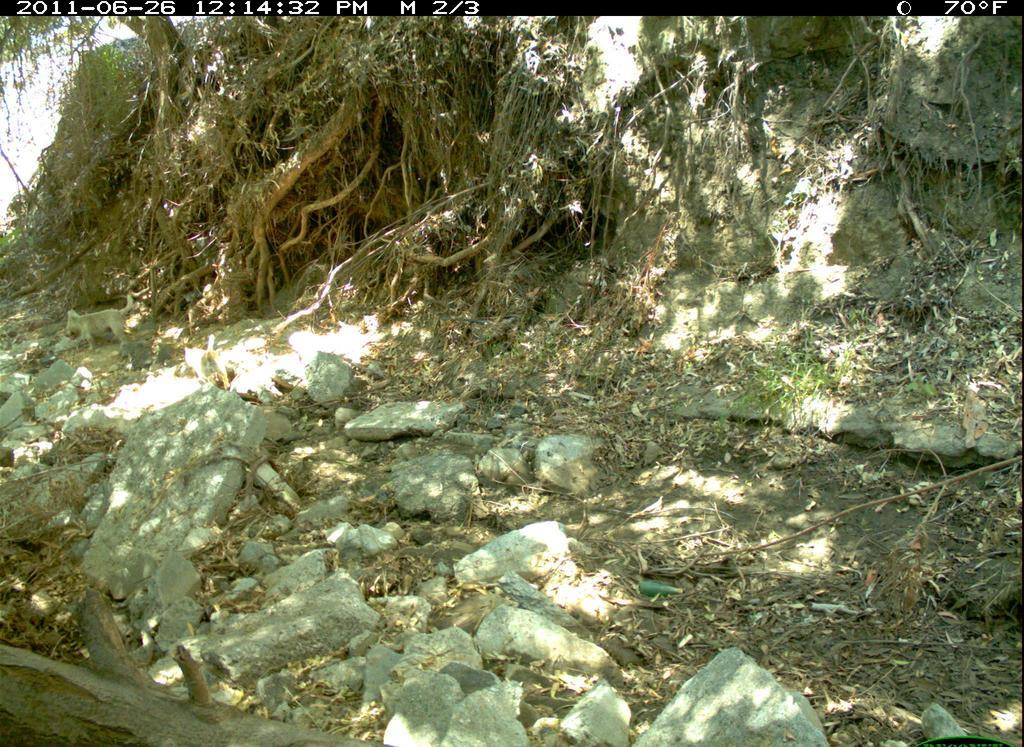dog: (60, 291, 142, 354), (180, 335, 237, 397)
